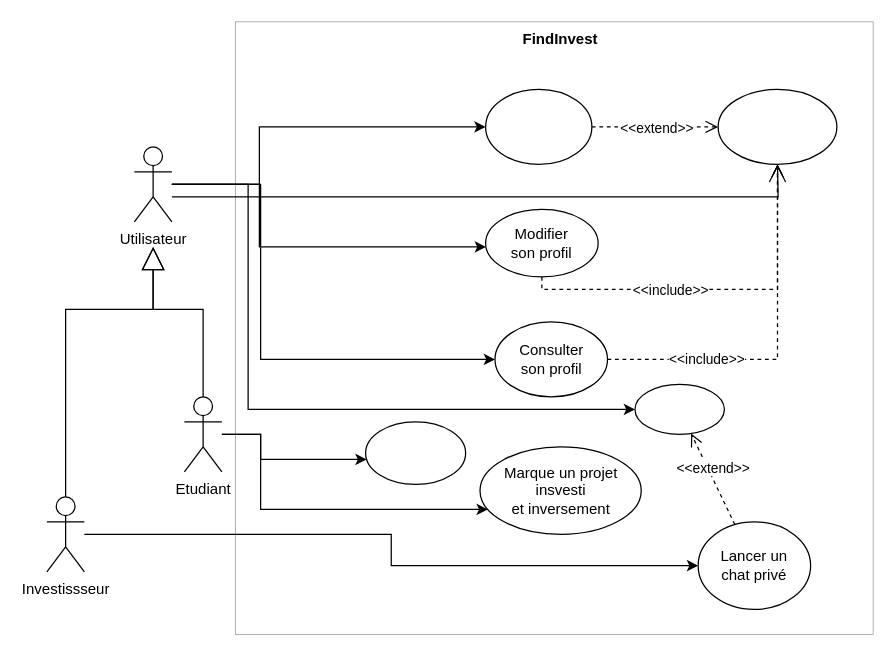
Some shapes in this 895 by 656 pixel diagram are drawn without their labels. The shapes that lost their labels are listed below. From the top down, each one's box as (x1, y1, x2, y2) in pixels, then its label:
(484, 88, 592, 164): S'inscrire
(717, 88, 837, 164): Se connecter
(634, 383, 724, 434): Chatter
(364, 421, 466, 484): Poster un projet
